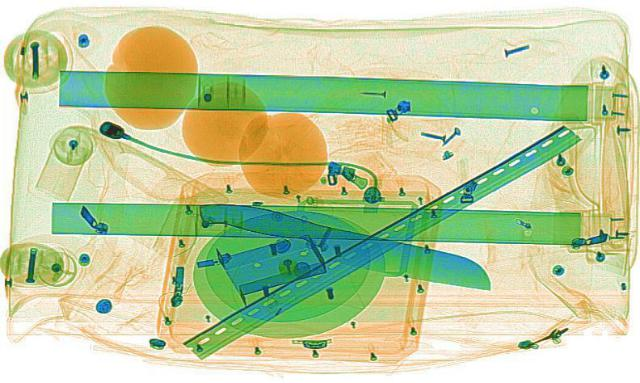Knife: (180, 191, 506, 296)
